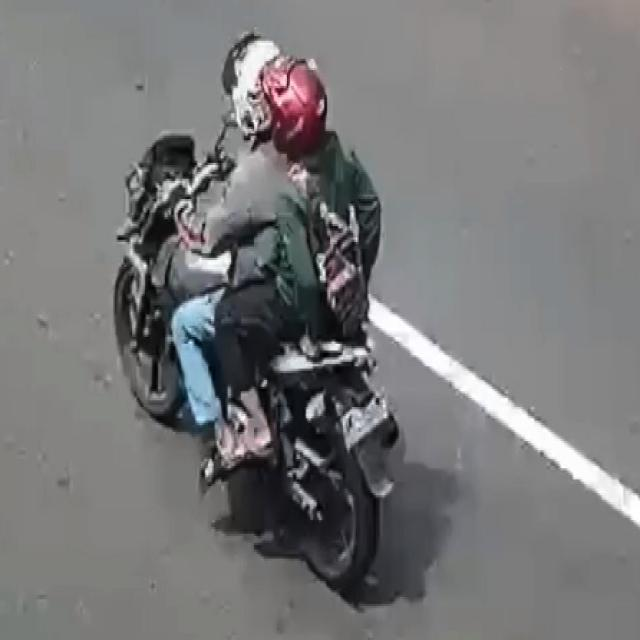helm: (213, 23, 293, 146), (258, 44, 334, 161)
motor: (109, 19, 403, 610)
spion: (203, 104, 247, 165), (119, 154, 160, 208)
